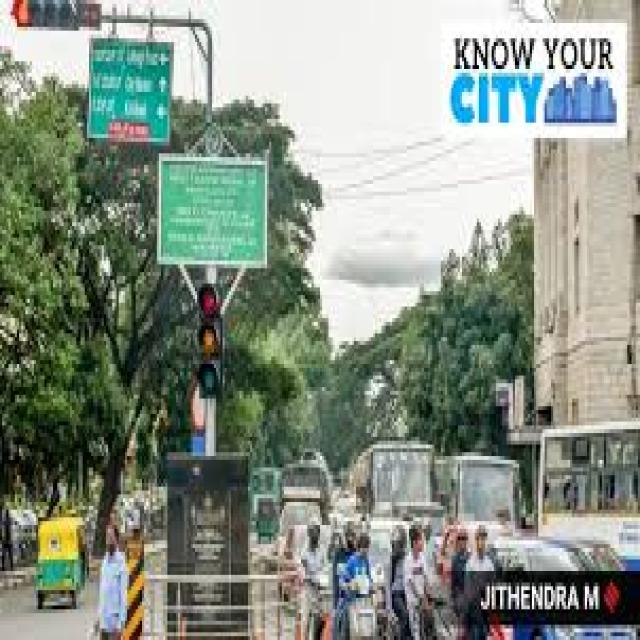traffic signal ahead at: (187, 278, 226, 402)
